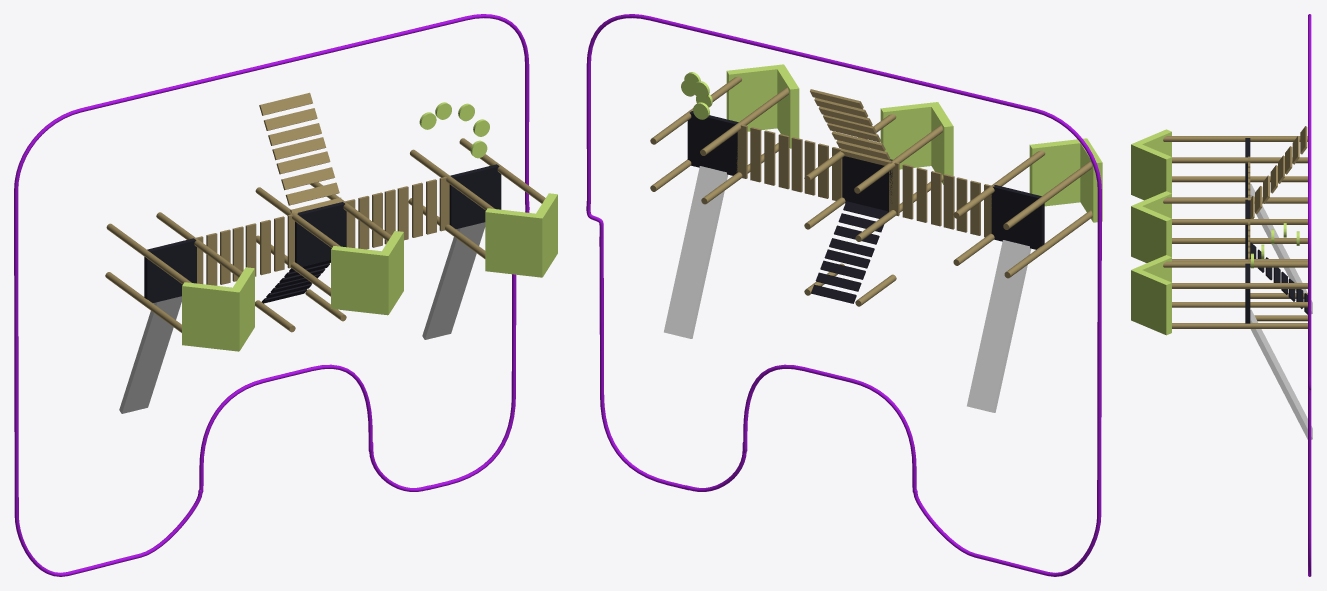
File: leber-lgik-803.glb
The picture shows the model from 3 angles, left to right: view 1: azimuth 30°, elevation 25°; view 2: azimuth 150°, elevation 25°; view 3: azimuth 270°, elevation 25°; orthographic projection. The views are drawn at different scales.
Parts seen in each view (by area): view 1: _outline, roof, roof.002, roof.001, bridge.002, bridge.001, bridge, Cube.025, Cube.024, Cube.020, Cube.022, Cube.021 (+5 smaller); view 2: _outline, Cube.024, Cube.025, bridge.001, bridge, roof.002, roof.001, roof, bridge.003, bridge.002, walls, Cube.020 (+5 smaller); view 3: walls.002, walls.001, roof.002, walls, roof.001, roof, _outline, bridge.002, Cube.025, bridge.003, Cube.024, Cylinder.035 (+3 smaller).
Boxes of the visible parts, x1,y1,x2,y2 form: _outline: (14,14,529,576); roof: (182,267,254,351); roof.002: (485,193,557,277); roof.001: (331,231,403,315); bridge.002: (259,92,342,213); bridge.001: (345,176,449,249); bridge: (195,213,297,285); Cube.025: (422,222,485,339); Cube.024: (119,296,181,413); Cube.020: (144,238,196,302); Cube.022: (449,164,501,229); Cube.021: (295,202,346,266); _outline: (586,14,1101,576); Cube.024: (967,240,1031,412); Cube.025: (664,166,727,338); bridge.001: (736,124,842,200); bridge: (889,162,994,237); roof.002: (726,64,799,148); roof.001: (880,102,953,184); roof: (1029,138,1102,222); bridge.003: (811,201,888,303); bridge.002: (810,89,892,165); walls: (953,150,1092,278); Cube.020: (991,185,1044,249); walls.002: (1163,261,1307,328); walls.001: (1163,197,1307,261); roof.002: (1131,255,1171,335); walls: (1163,136,1307,197); roof.001: (1131,191,1171,262); roof: (1131,129,1171,200); _outline: (1308,14,1311,576); bridge.002: (1250,126,1307,218); Cube.025: (1250,309,1312,439); bridge.003: (1250,242,1307,314); Cube.024: (1250,184,1312,313); Cylinder.035: (1254,315,1307,321).
Size of the model in its own units: 8.48 by 7.34 by 3.05.
